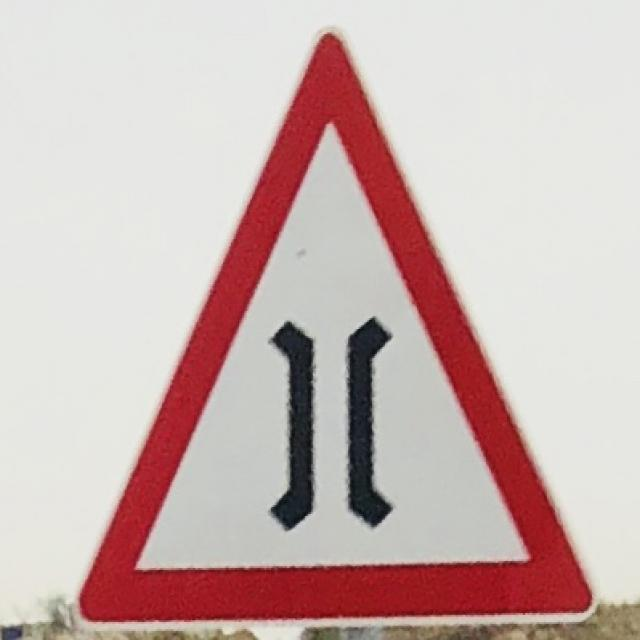narrow bridge ahead: (81, 37, 590, 618)
